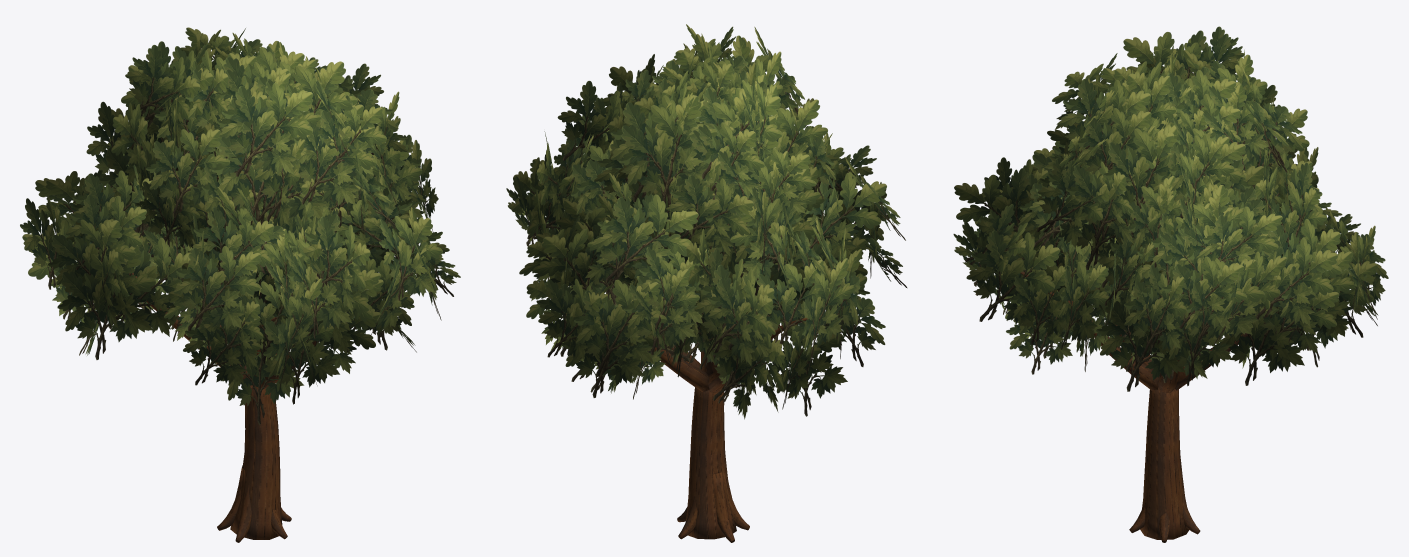
File: tree_oak_maple_v2.glb
3 views of the same model, side by side, from view 1: azimuth 30°, elevation 25°; view 2: azimuth 150°, elevation 25°; view 3: azimuth 270°, elevation 25° (orthographic). The views are drawn at different scales.
Visible parts, largest first — view 1: TreeCanopy_OakMaple, TreeBark_OakMaple; view 2: TreeCanopy_OakMaple, TreeBark_OakMaple; view 3: TreeCanopy_OakMaple, TreeBark_OakMaple.
Boxes of the visible parts, <box> form: TreeCanopy_OakMaple: <box>20,27,460,424</box>; TreeBark_OakMaple: <box>129,176,361,542</box>; TreeCanopy_OakMaple: <box>506,24,907,419</box>; TreeBark_OakMaple: <box>626,241,841,542</box>; TreeCanopy_OakMaple: <box>953,26,1388,391</box>; TreeBark_OakMaple: <box>1020,271,1302,542</box>.
Bounding box in the file's own units: 7.16 × 8.53 × 7.23.
Materials: 2 (2 with a texture image).
